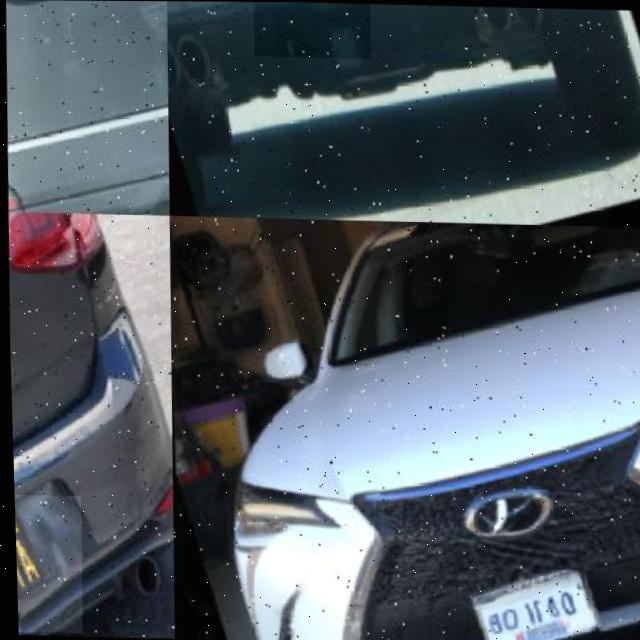LicensePlate: (11, 494, 80, 632), (466, 569, 594, 640), (252, 1, 370, 58)
